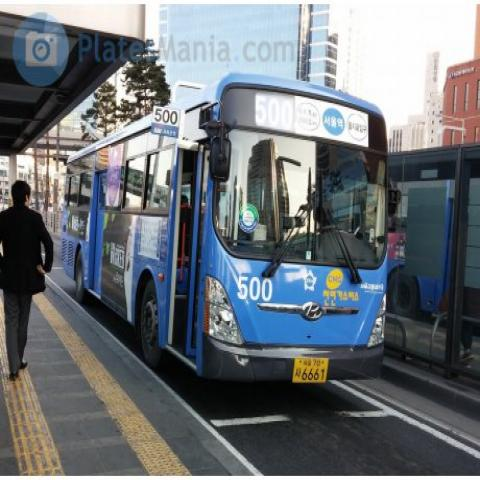LP: (286, 346, 336, 396)
